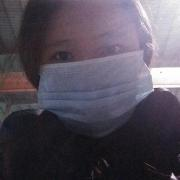OK: (44, 26, 156, 138)
